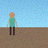person: (7, 12, 18, 35)
